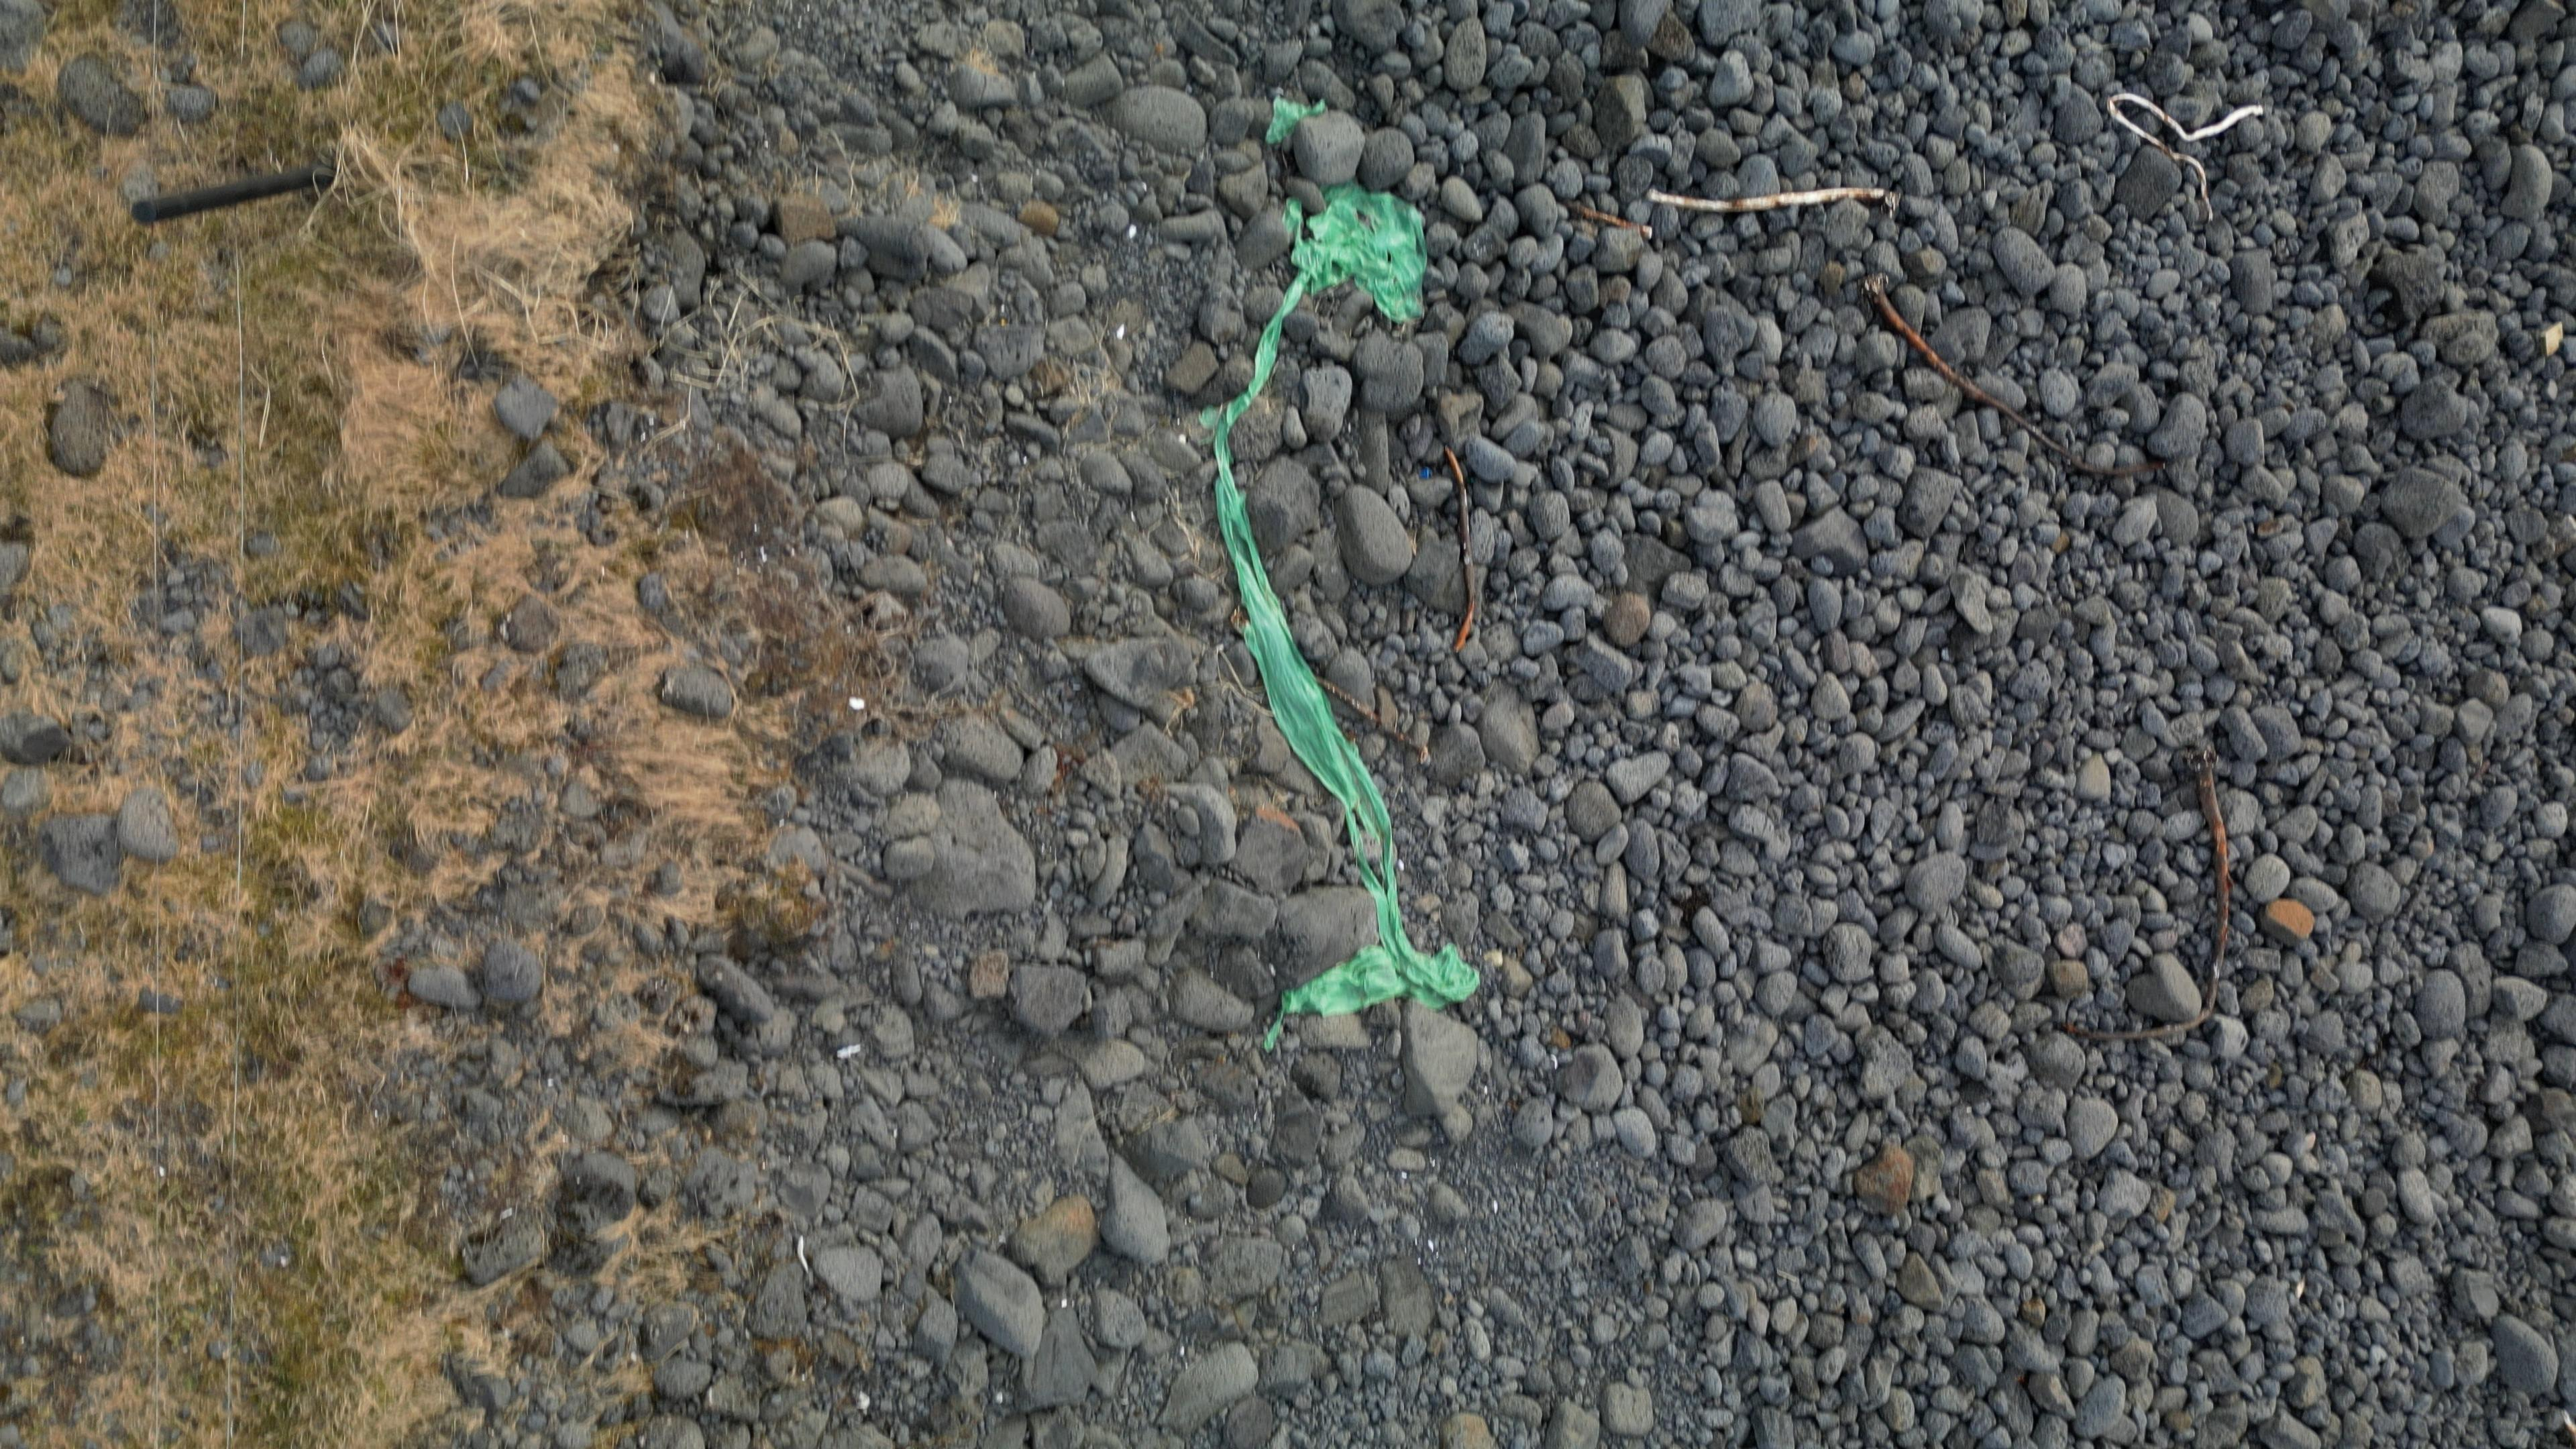trash: (1212, 311, 1479, 1051), (1288, 180, 1424, 322)
